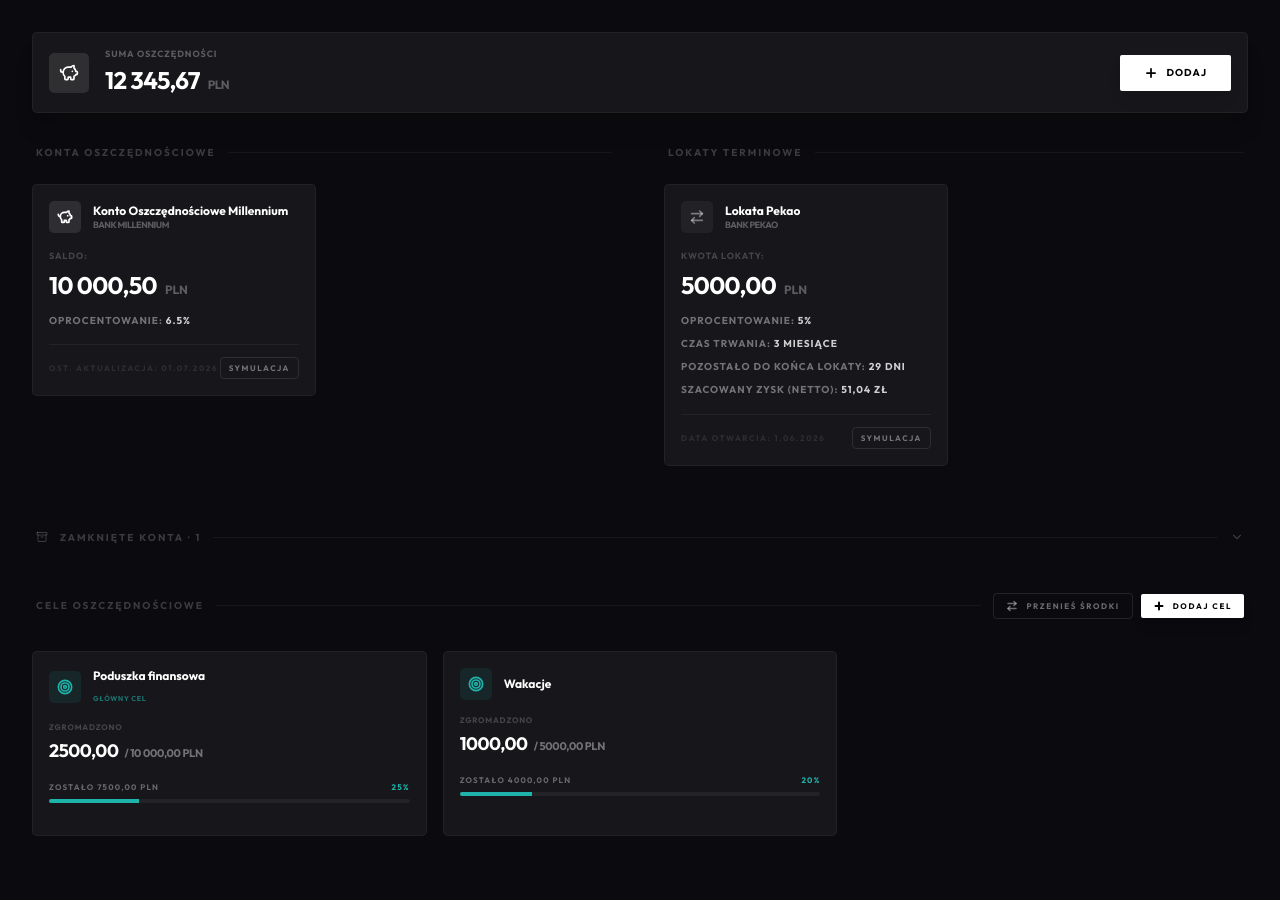
Scenario: Savings Page › transferuje środki między celami — POST /savings-goals/transfer z kwotą i kierunkiem
The width and height of the screenshot is (1280, 900).
Expected: the heading "Poduszka finansowa" is shown, [93, 668, 205, 683]
Click the button "Przenieś środki" at (1063, 606), box [994, 593, 1133, 619]
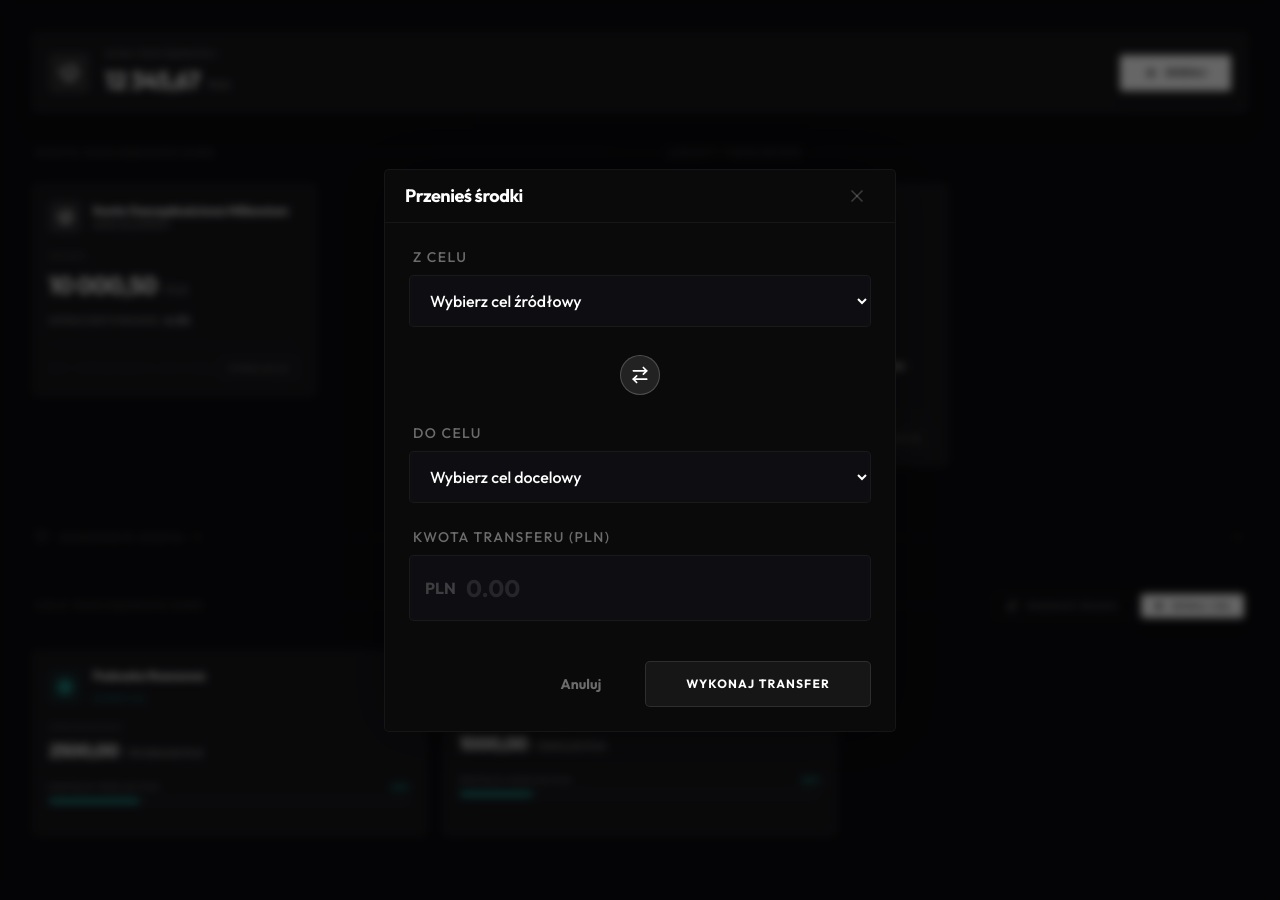
Now the number of dropdowns is 2
Select "Poduszka finansowa (2500,00 PLN)" in the dropdown below "Z celu" at (640, 300), box [409, 274, 871, 326]
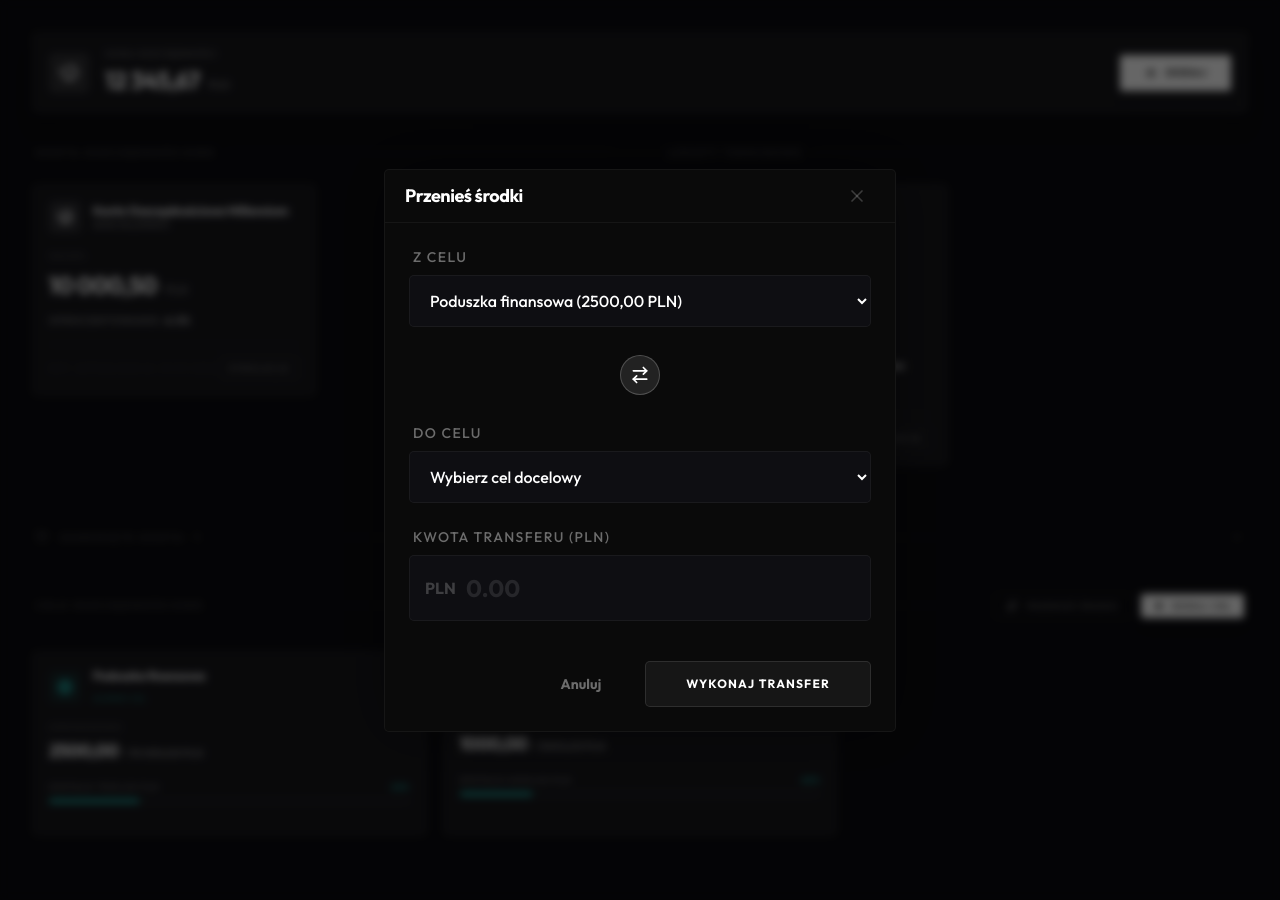
Select "Wakacje (1000,00 PLN)" in the dropdown below "Do celu" at (640, 476), box [409, 450, 871, 502]
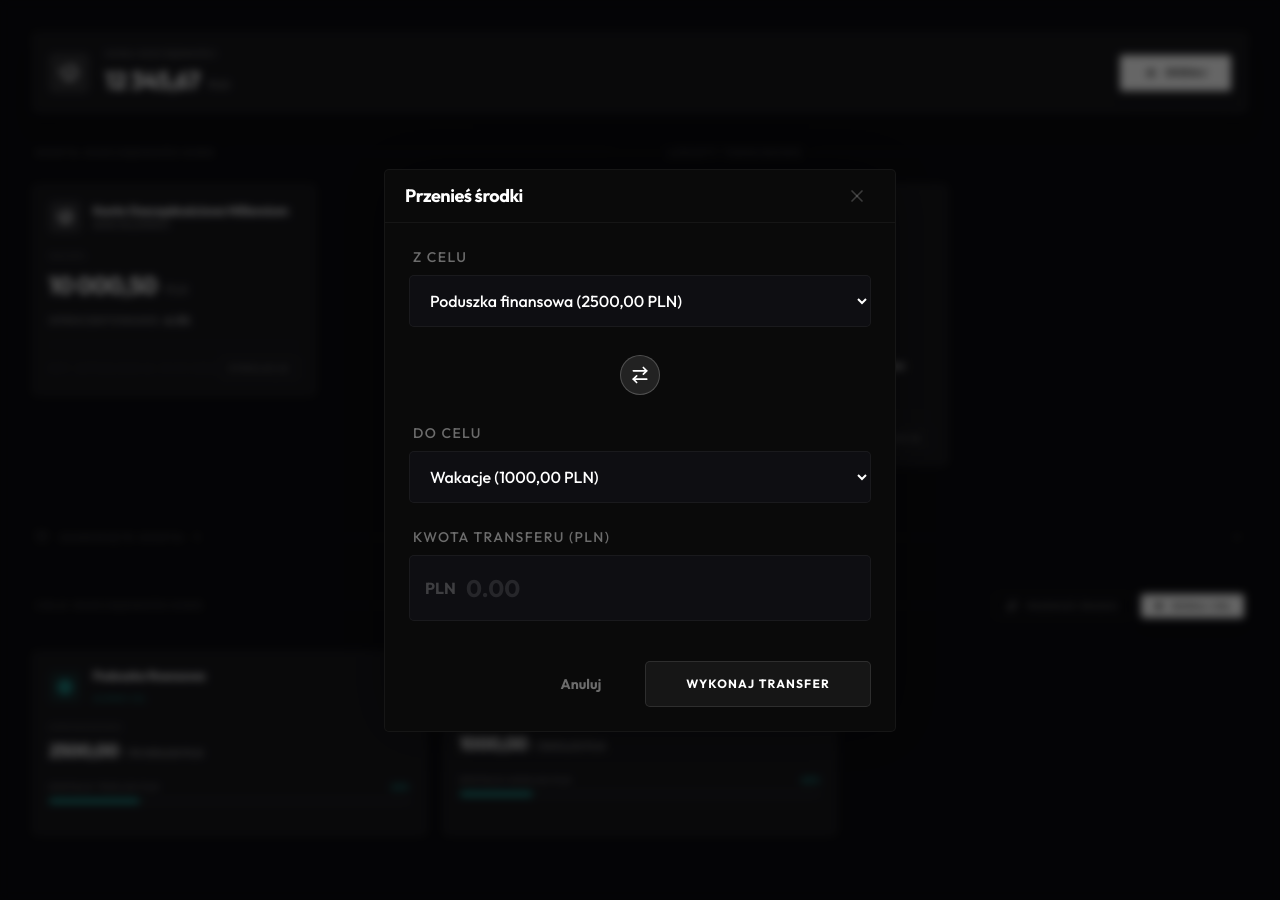
Type "250" into the number field with placeholder "0.00" at (640, 588), box [409, 554, 871, 620]
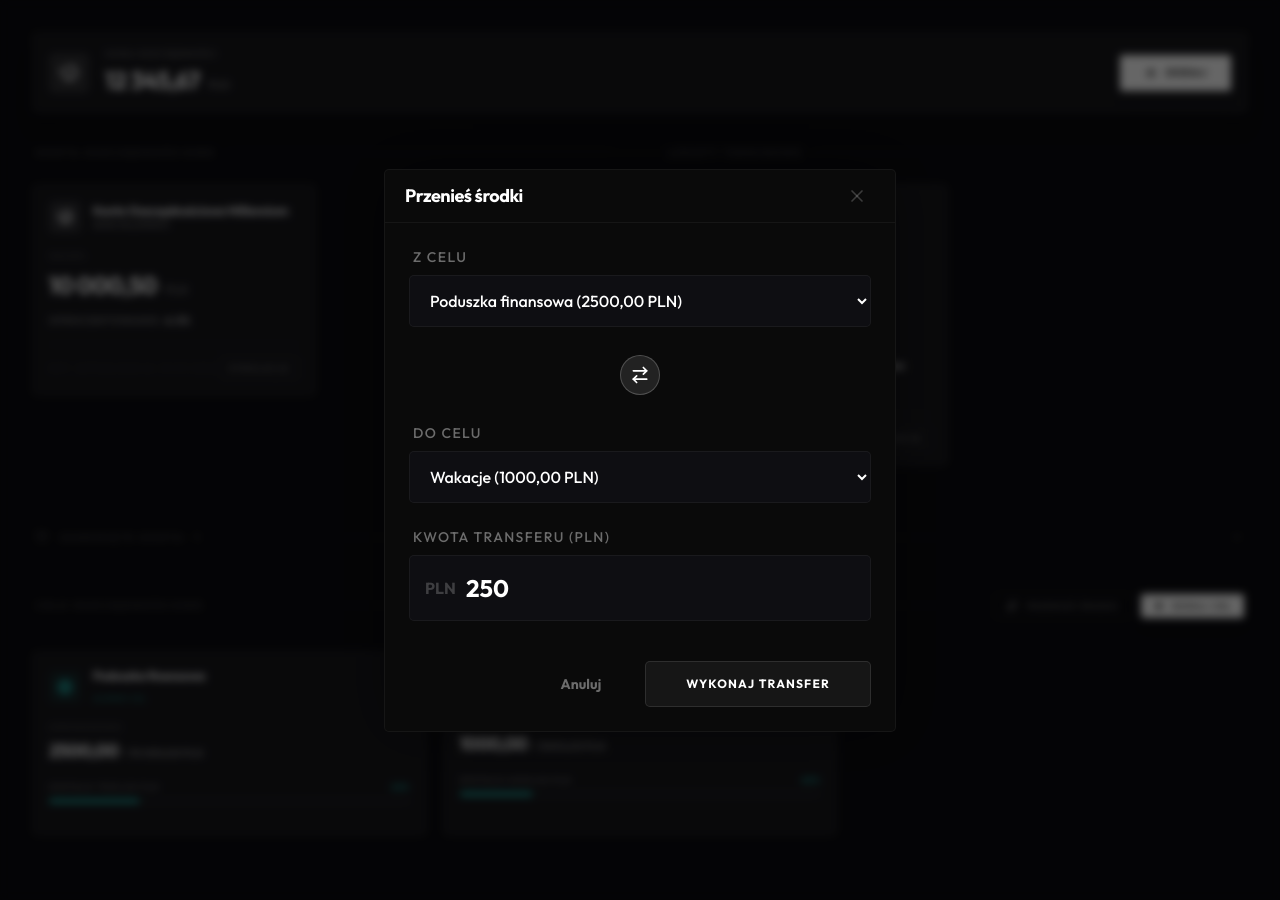
Click the button "Wykonaj transfer" at (758, 684), box [645, 660, 871, 706]
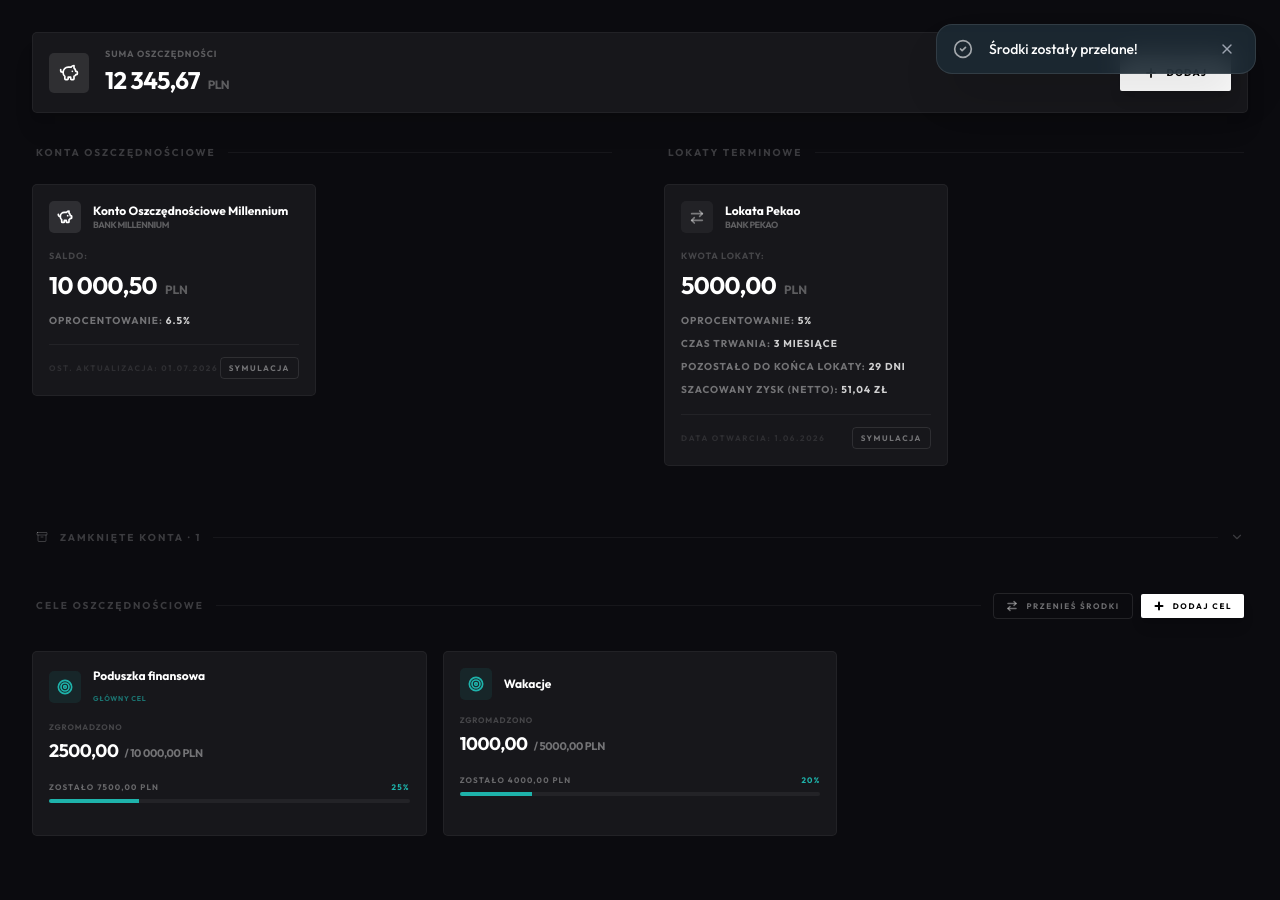
Now the text "Środki zostały przelane!" is shown, box [989, 40, 1138, 58]
